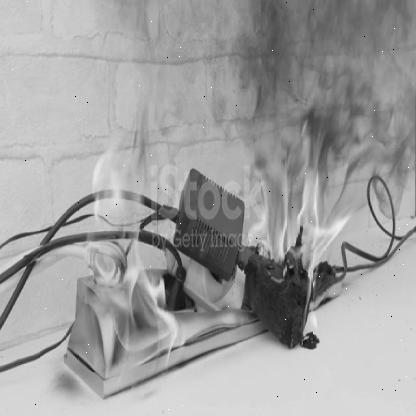fire: (83, 111, 180, 372), (245, 148, 373, 335)
smoke: (121, 0, 416, 292)
